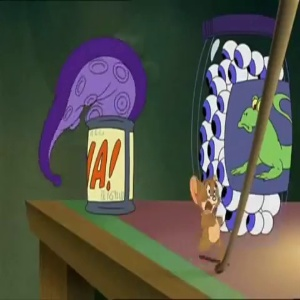Jerry: (191, 173, 223, 213)
